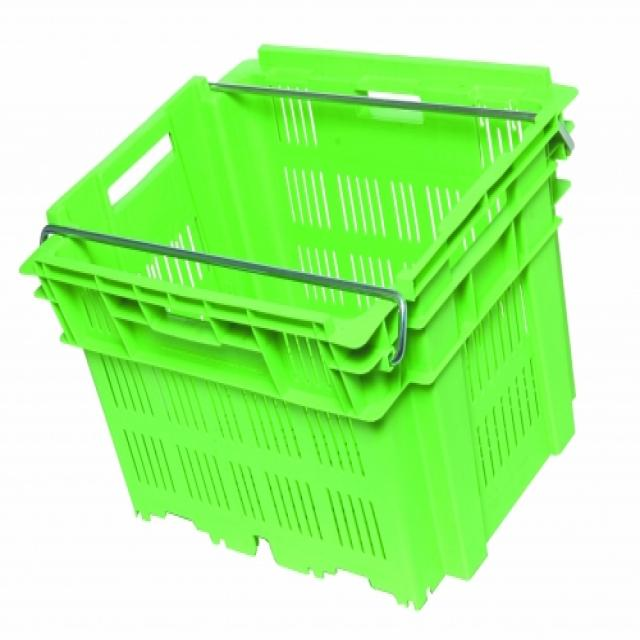basket: (0, 30, 601, 617)
